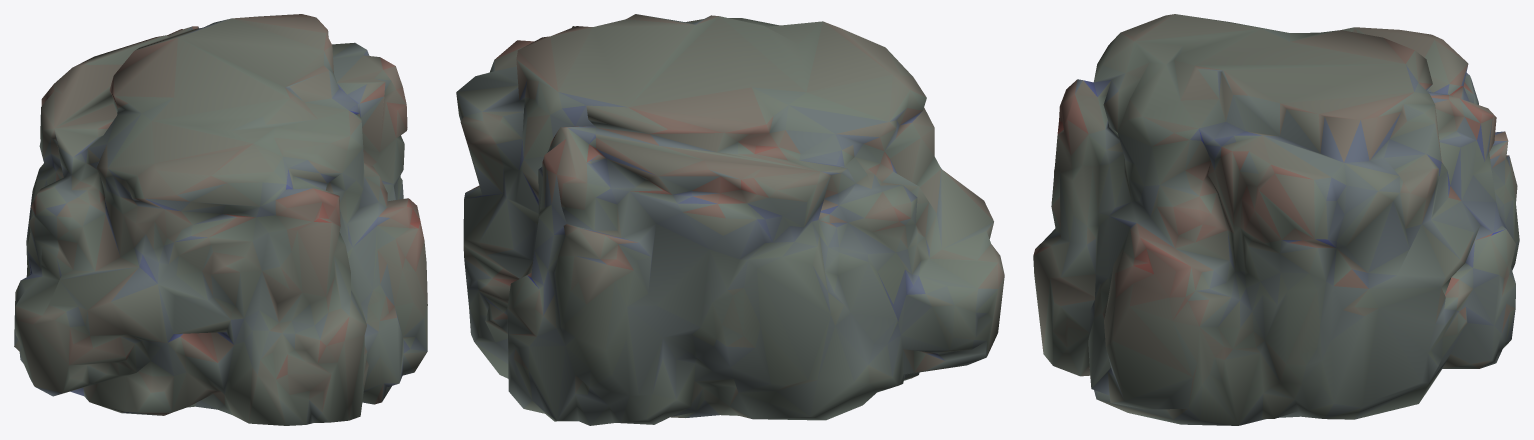
File: snow_cliff_01.fbx
3 views of the same model, side by side, from view 1: azimuth 30°, elevation 25°; view 2: azimuth 150°, elevation 25°; view 3: azimuth 270°, elevation 25° (orthographic). The views are drawn at different scales.
Parts seen in each view (by area): view 1: Cliff_Final; view 2: Cliff_Final; view 3: Cliff_Final.
Part boxes in pixels (x1,y1,x2,y2): Cliff_Final: (14,14,427,425); Cliff_Final: (456,14,1004,425); Cliff_Final: (1033,14,1519,425).
Size of the model in its own units: 1769 by 1168 by 1622.
